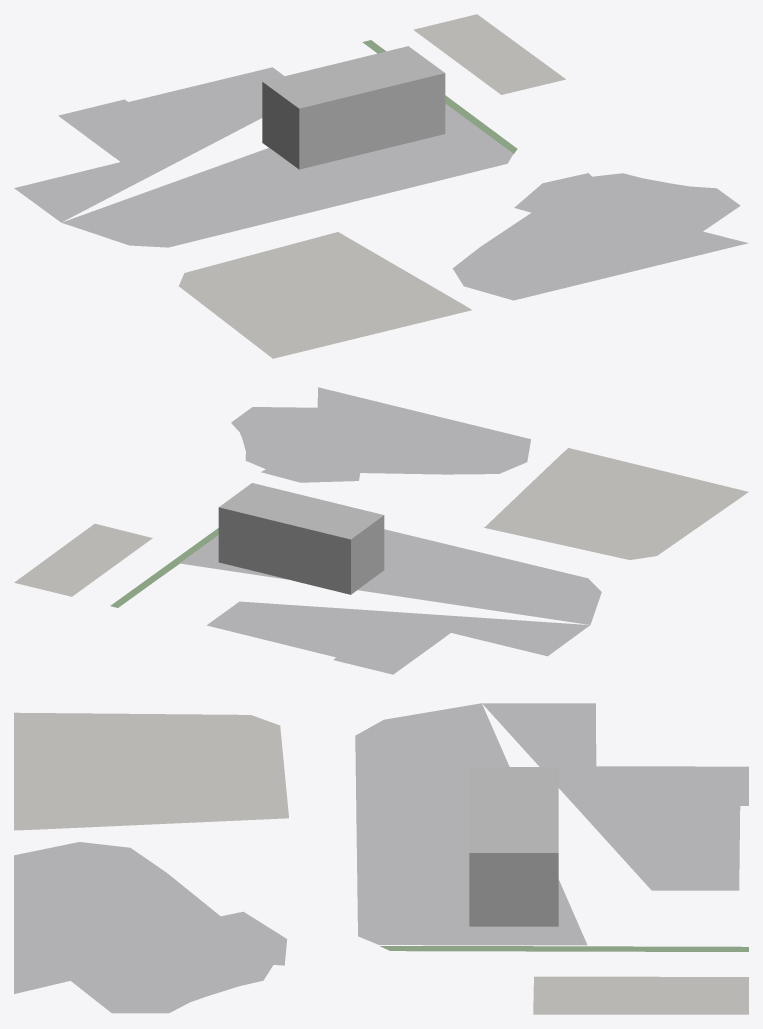
File: 101_106_mid.glb
3 renders of one model, top to bottom at view 1: azimuth 30°, elevation 25°; view 2: azimuth 150°, elevation 25°; view 3: azimuth 270°, elevation 25°, orthographic. The views are drawn at different scales.
Bounding box in the file's own units: 500 × 56.01 × 500.
